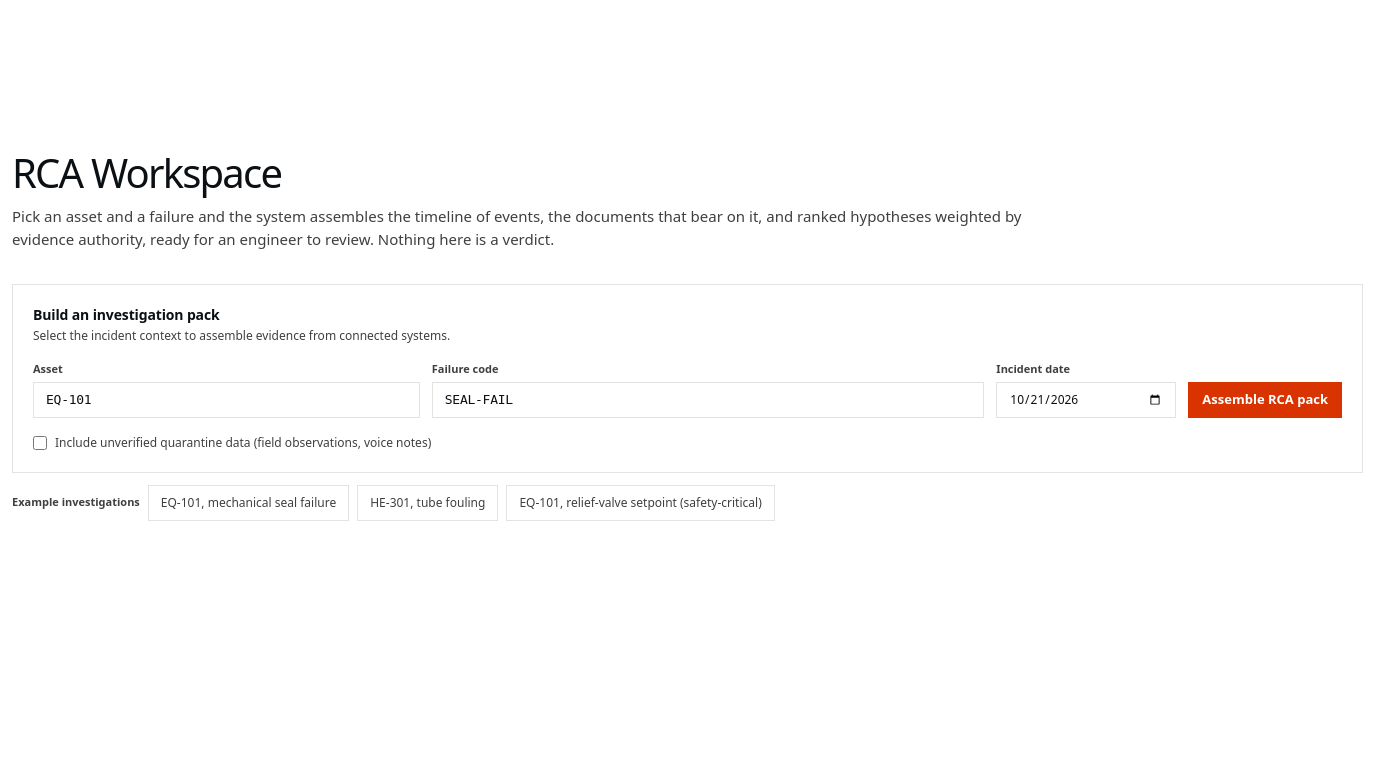
Test: RcaPage › ignores an older pack that resolves after a newer request
Click the button "EQ-101, mechanical seal failure".
click(248, 502)  # box [148,484,349,520]
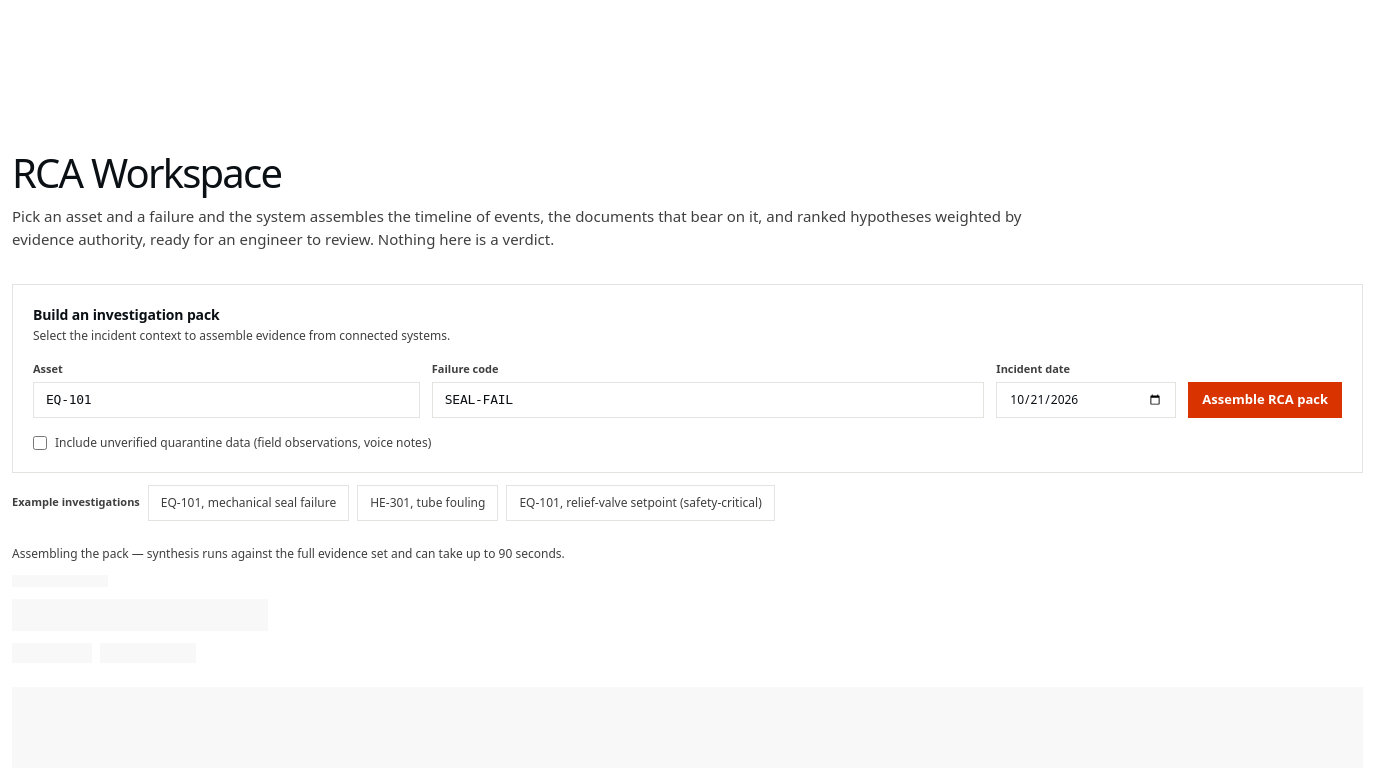
Click the button "HE-301, tube fouling".
click(428, 502)  # box [357,484,498,520]
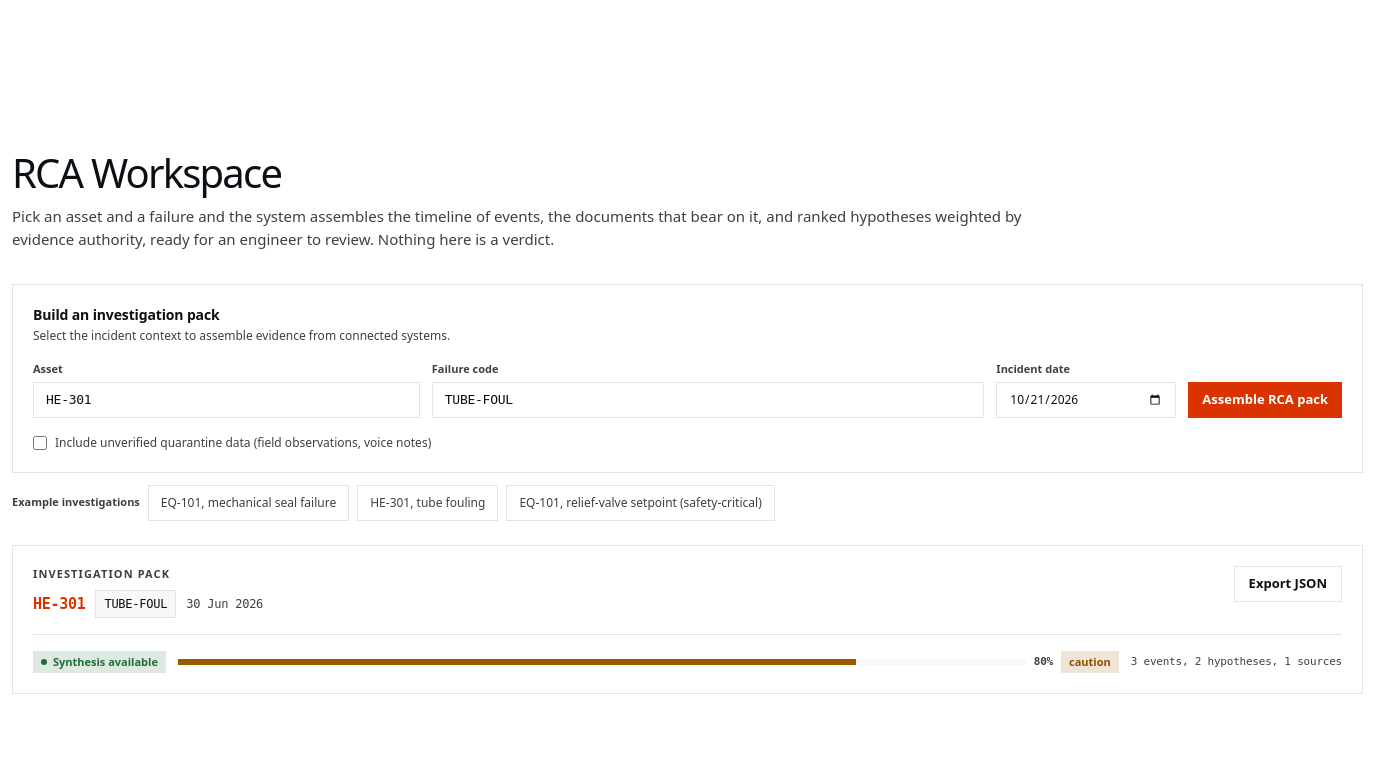
Check: the text "SEAL-FAIL" is not shown
Check: the text "HE-301" is shown, box [33,593,85,615]
